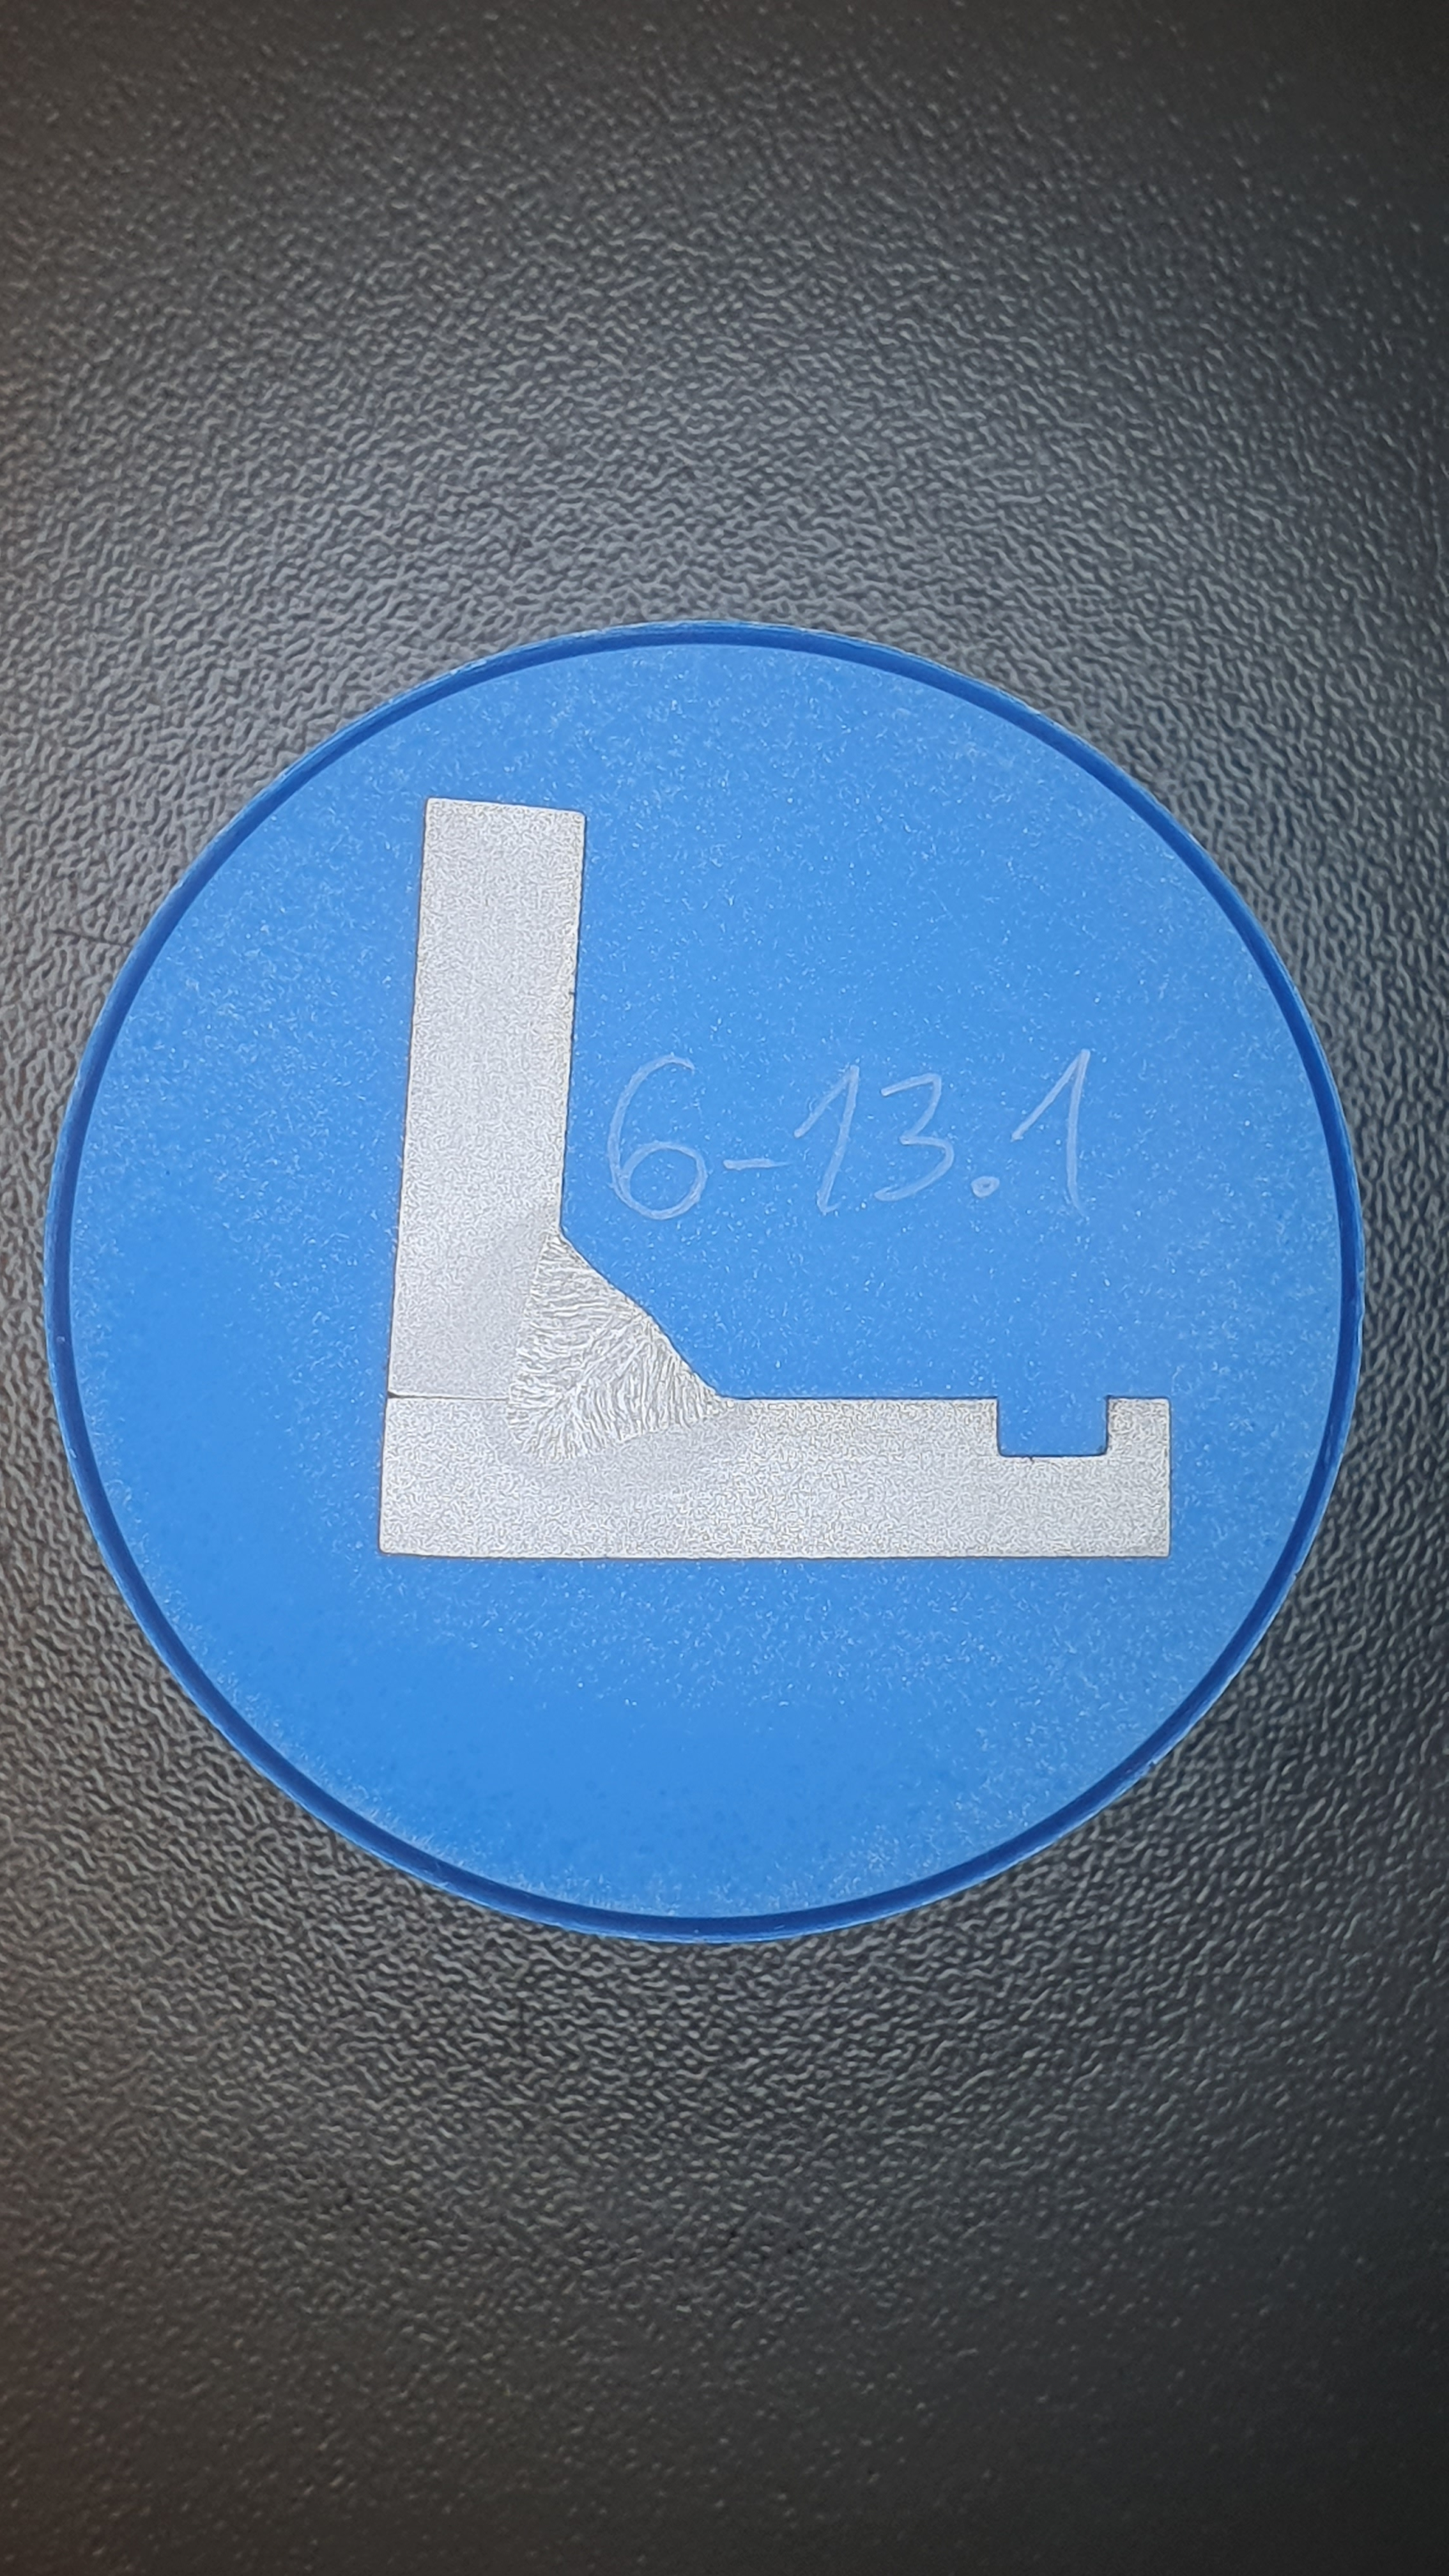Fusion: (506, 1223, 736, 1461)
Hintergrund: (67, 642, 1338, 1916)
Metall: (379, 798, 1169, 1559)
Nebenbereich: (467, 1203, 754, 1499)
